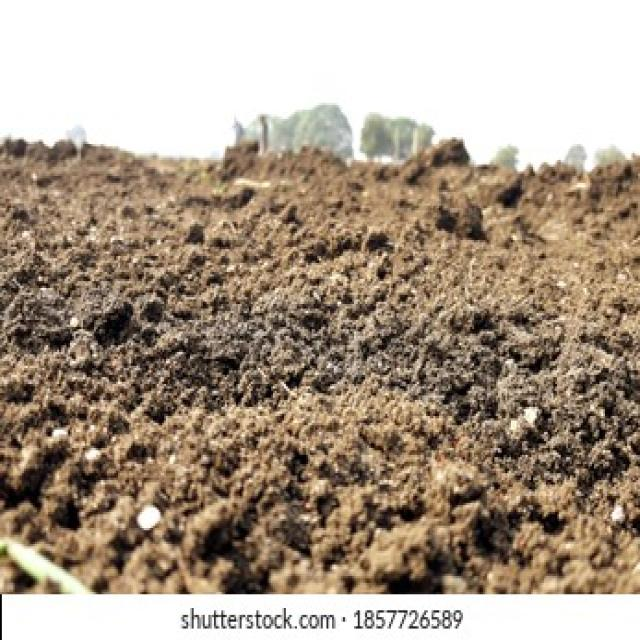Alluvial Soil: (13, 184, 610, 518)
